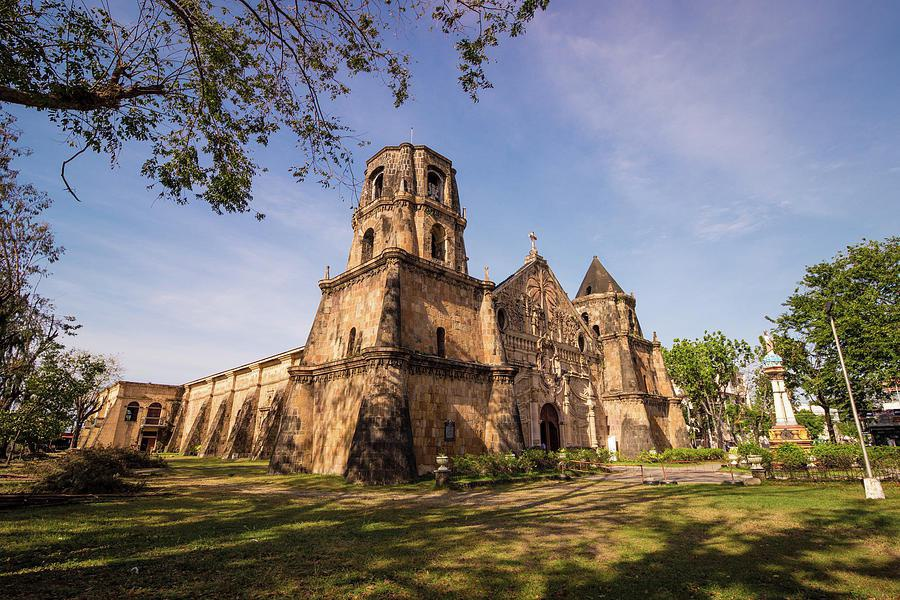miagao_church_miagao_iloilo: (300, 119, 700, 463)
